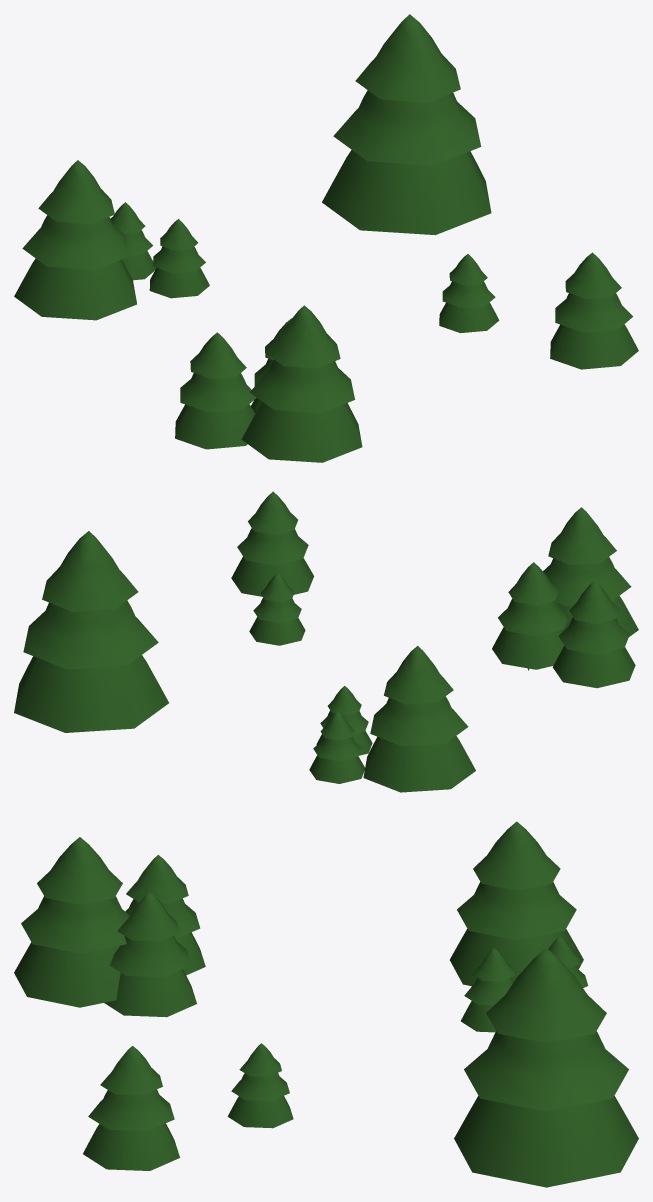
File: GrassFoliage_02.FBX
The picture shows the model from 3 angles, top to bottom: view 1: azimuth 30°, elevation 25°; view 2: azimuth 150°, elevation 25°; view 3: azimuth 270°, elevation 25°; orthographic projection. The views are drawn at different scales.
Visible parts, largest first — view 1: nurbsToPoly6; view 2: nurbsToPoly6; view 3: nurbsToPoly6.
Part boxes in pixels (x1,y1,x2,y2): nurbsToPoly6: [14, 14, 638, 462]; nurbsToPoly6: [14, 491, 638, 792]; nurbsToPoly6: [14, 821, 638, 1187].
Bounding box in the file's own units: 405 × 167 × 417.
